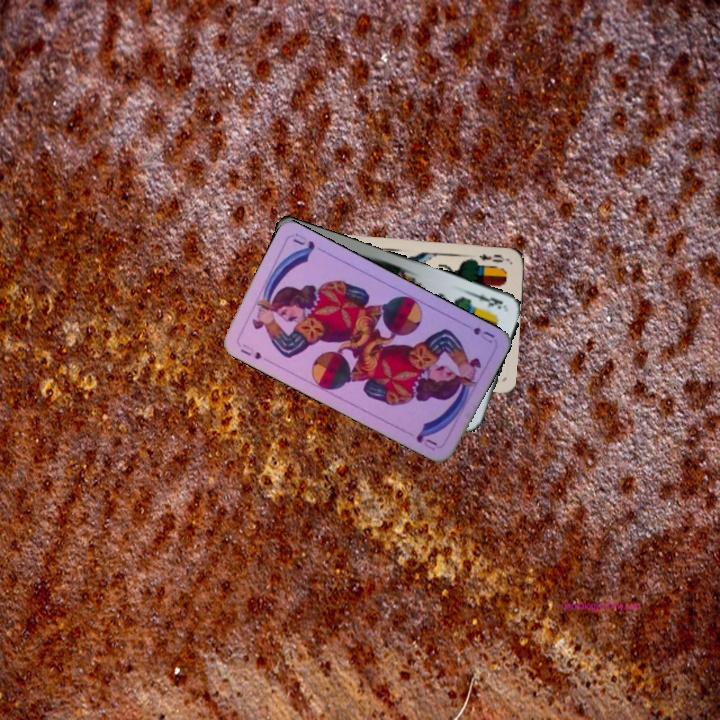EK: (468, 289, 507, 312)
EO: (475, 250, 511, 265)
SU: (458, 320, 497, 346), (236, 339, 264, 362)
